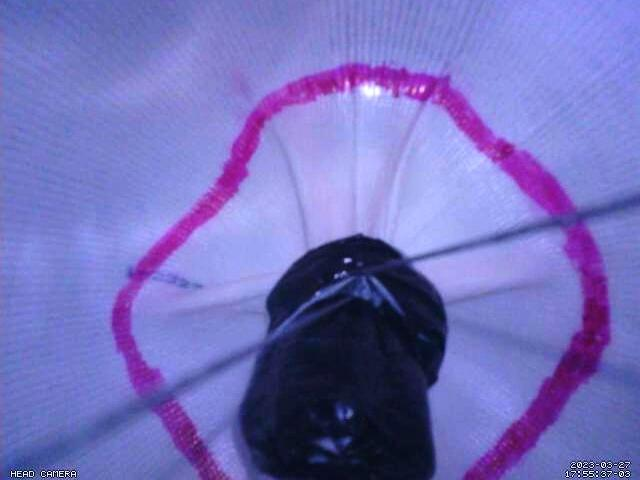red-circle: (110, 62, 612, 480)
